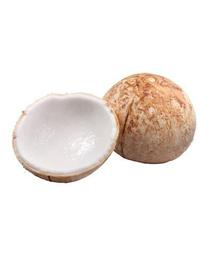coconut: (11, 92, 121, 184), (101, 73, 197, 166)
